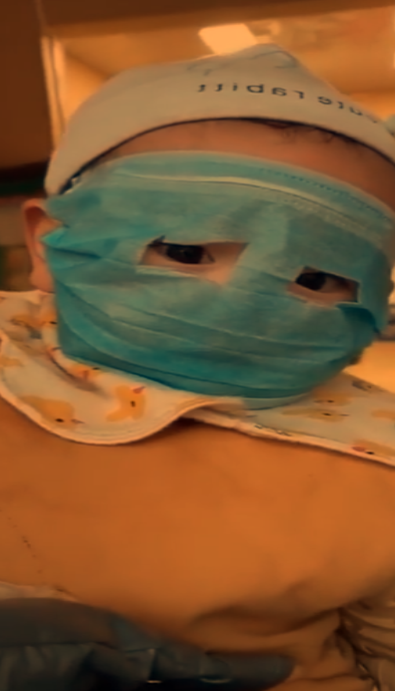mask_weared_incorrect: (17, 47, 395, 402)
